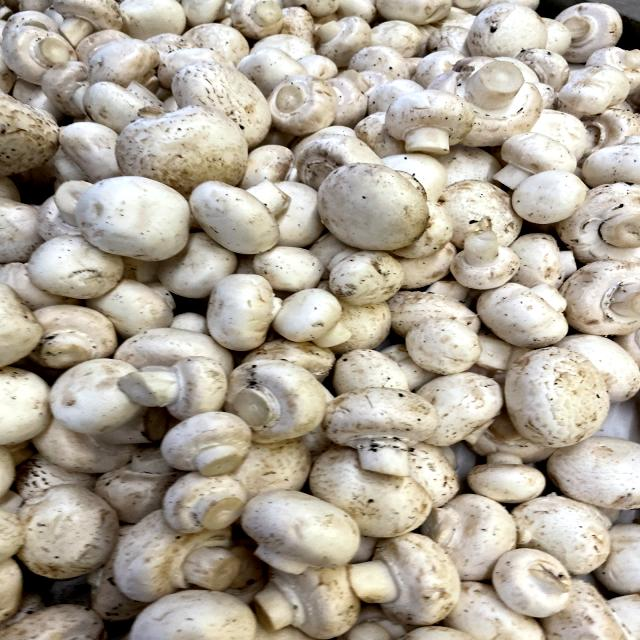mushroom: (484, 334, 623, 454), (238, 478, 374, 579), (319, 374, 444, 480), (307, 156, 440, 255), (344, 527, 464, 630), (424, 49, 548, 148), (213, 346, 328, 444), (187, 166, 296, 259), (443, 228, 532, 297)
